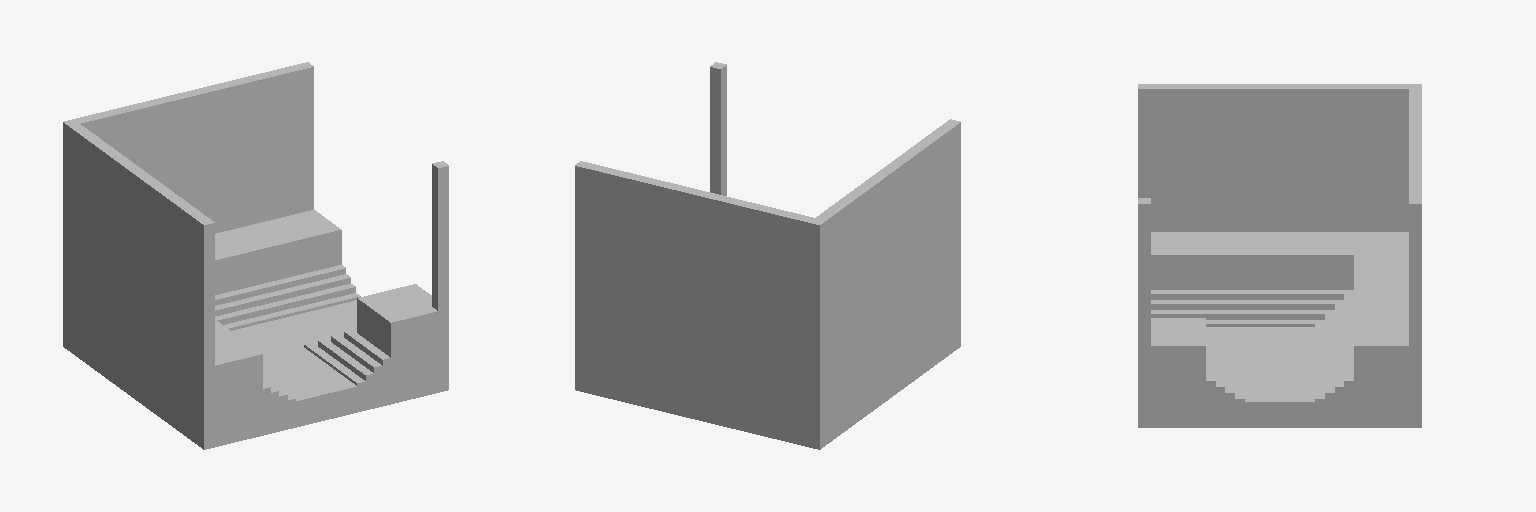
File: turn.obj
3 renders of one model, left to right at view 1: azimuth 30°, elevation 25°; view 2: azimuth 150°, elevation 25°; view 3: azimuth 270°, elevation 25°, orthographic.
Parts seen in each view (by area): view 1: turn; view 2: turn; view 3: turn.
Part boxes in pixels (x1,y1,x2,y2): turn: (63, 62, 448, 449); turn: (575, 62, 960, 449); turn: (1138, 84, 1421, 427).
Size of the model in its own units: 88 by 77 by 88.